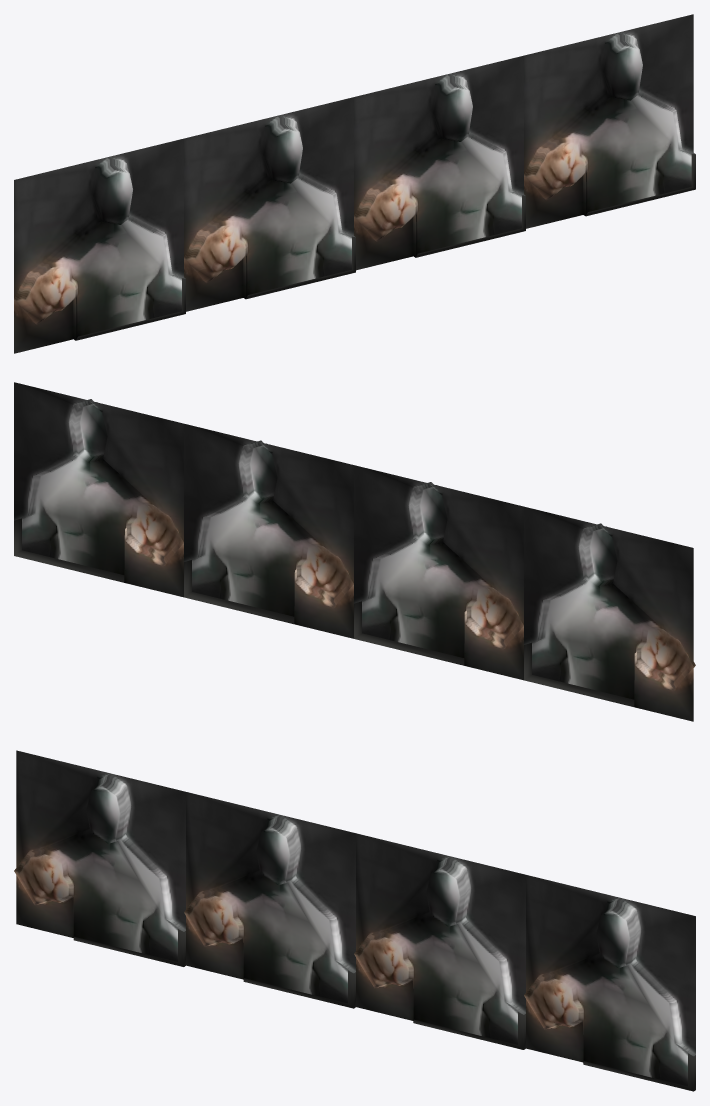
Rendered from cherlies1.glb.
The picture shows the model from 3 angles, top to bottom: view 1: azimuth 30°, elevation 25°; view 2: azimuth 150°, elevation 25°; view 3: azimuth 330°, elevation 25°; orthographic projection.
Visible parts, largest first — view 1: Screenshot 2025-09-27 163651; view 2: Screenshot 2025-09-27 163651; view 3: Screenshot 2025-09-27 163651.
Boxes of the visible parts, x1,y1,x2,y2 form: Screenshot 2025-09-27 163651: (14, 14, 695, 353); Screenshot 2025-09-27 163651: (14, 382, 695, 721); Screenshot 2025-09-27 163651: (14, 750, 695, 1091).
Bounding box in the file's own units: 4.09 × 1 × 0.0767.
Materials: 1 (1 with a texture image).
